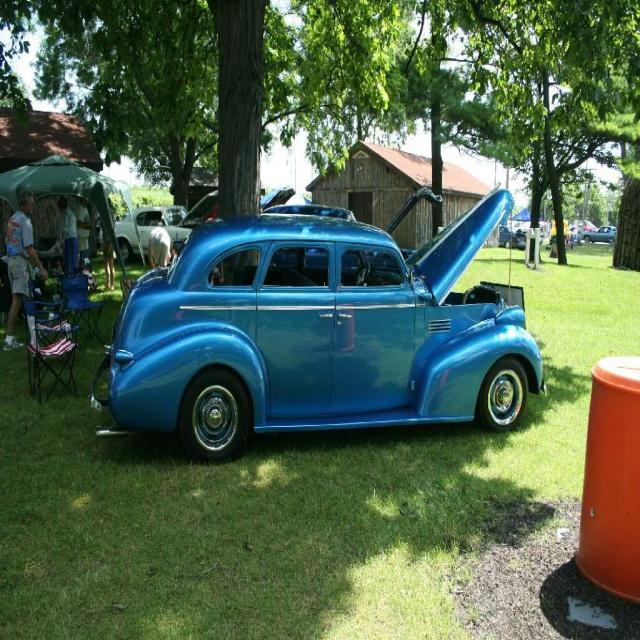car: (88, 172, 547, 465)
